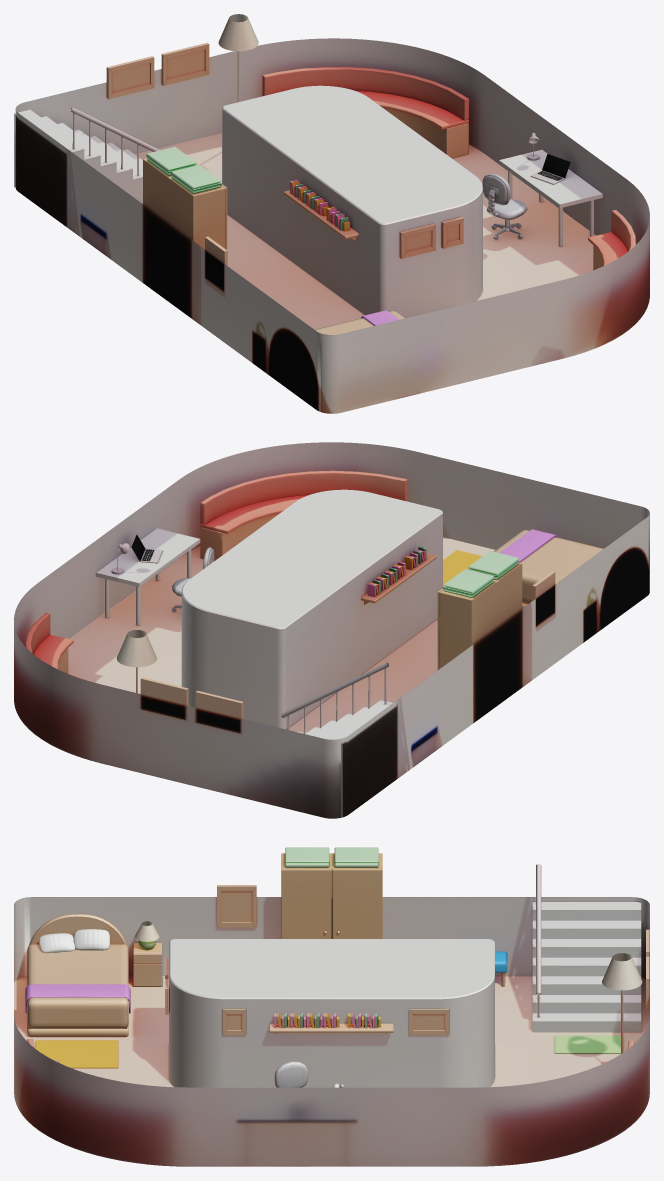
The model's file is EA_Baking_v2.glb.
3 views of the same model, one above another, from view 1: azimuth 30°, elevation 25°; view 2: azimuth 150°, elevation 25°; view 3: azimuth 270°, elevation 25° (orthographic).
Parts seen in each view (by area): view 1: 2_D_Room, 2_D_Objects, 2_D_Stairs; view 2: 2_D_Room, 2_D_Objects, 2_D_Stairs; view 3: 2_D_Room, 2_D_Objects, 2_D_Stairs.
Part boxes in pixels (left/top/right/bottom): 2_D_Room: left=15, top=38, right=649, bottom=413; 2_D_Objects: left=106, top=14, right=635, bottom=410; 2_D_Stairs: left=14, top=107, right=159, bottom=203; 2_D_Room: left=14, top=442, right=649, bottom=818; 2_D_Objects: left=25, top=470, right=649, bottom=718; 2_D_Stairs: left=281, top=662, right=392, bottom=817; 2_D_Room: left=14, top=897, right=649, bottom=1166; 2_D_Objects: left=25, top=847, right=649, bottom=1087; 2_D_Stairs: left=532, top=864, right=641, bottom=1031.
Size of the model in its own units: 9.04 by 2.9 by 12.75.
2 materials, 2 textured.
